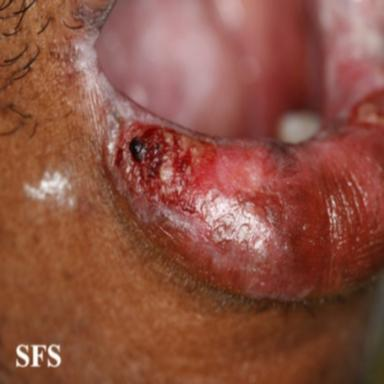lichen: (71, 0, 299, 296), (24, 171, 71, 201)
